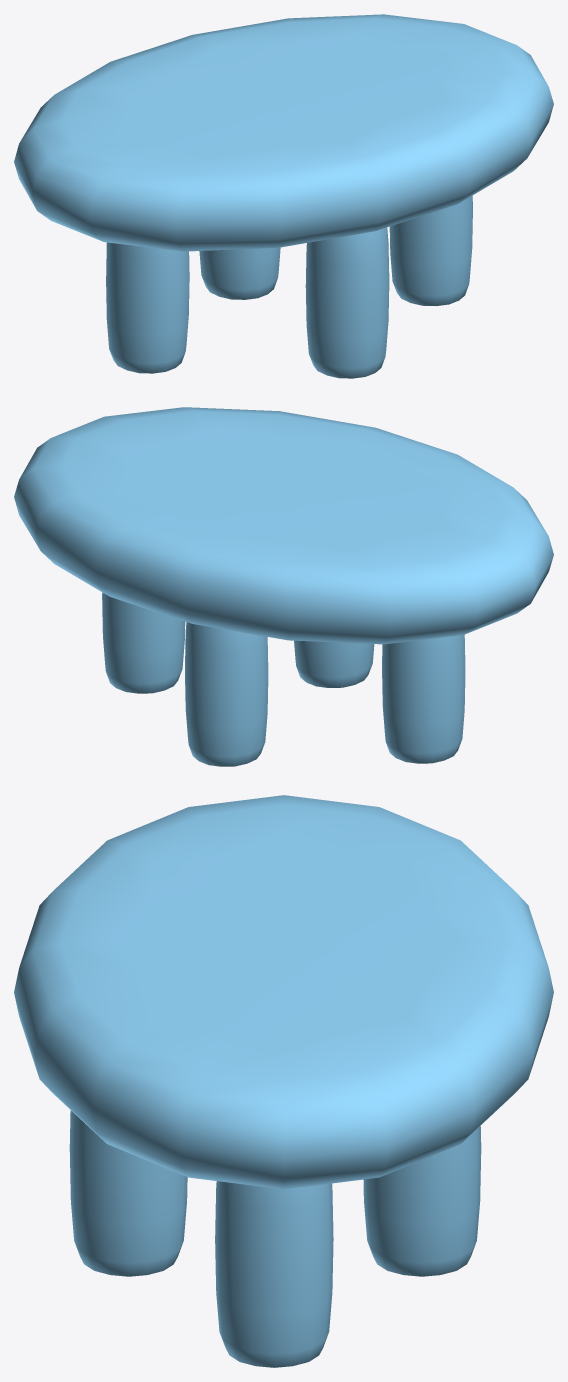
File: Coffee_table.glb
3 views of the same model, one above another, from view 1: azimuth 30°, elevation 25°; view 2: azimuth 150°, elevation 25°; view 3: azimuth 270°, elevation 25° (orthographic). The views are drawn at different scales.
Parts seen in each view (by area): view 1: Coffee table, Circle.004, Circle.003, Circle.002, Circle.001; view 2: Coffee table, Circle.001, Circle.003, Circle.002, Circle.004; view 3: Coffee table, Circle.002, Circle.004, Circle.001.
Part boxes in pixels (x1,y1,x2,y2): Coffee table: (14,14,553,251); Circle.004: (305,227,389,378); Circle.003: (106,242,189,373); Circle.002: (389,195,472,305); Circle.001: (199,247,280,299); Coffee table: (14,407,553,644); Circle.001: (185,622,268,766); Circle.003: (382,634,465,763); Circle.002: (102,592,185,693); Circle.004: (294,640,374,687); Coffee table: (14,795,553,1189); Circle.002: (215,1181,333,1367); Circle.004: (69,1110,187,1276); Circle.001: (363,1126,481,1276).
Bounding box in the file's own units: 0.7234 × 0.3155 × 0.4933.
